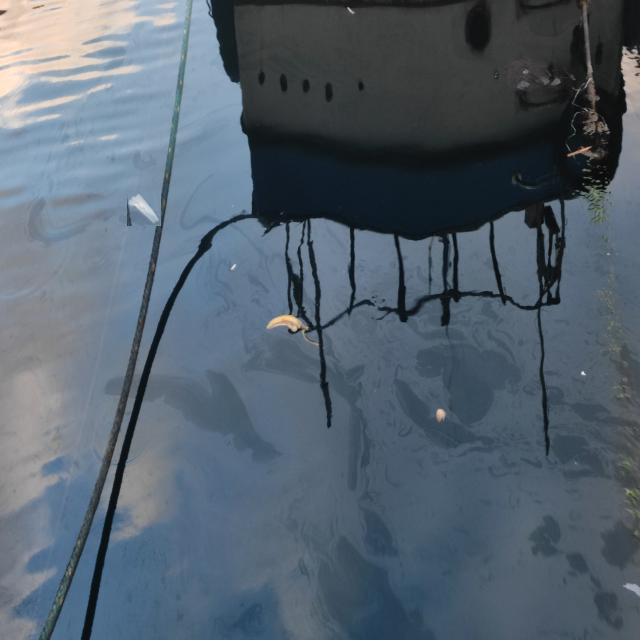Plastic bag: (127, 191, 161, 226)
